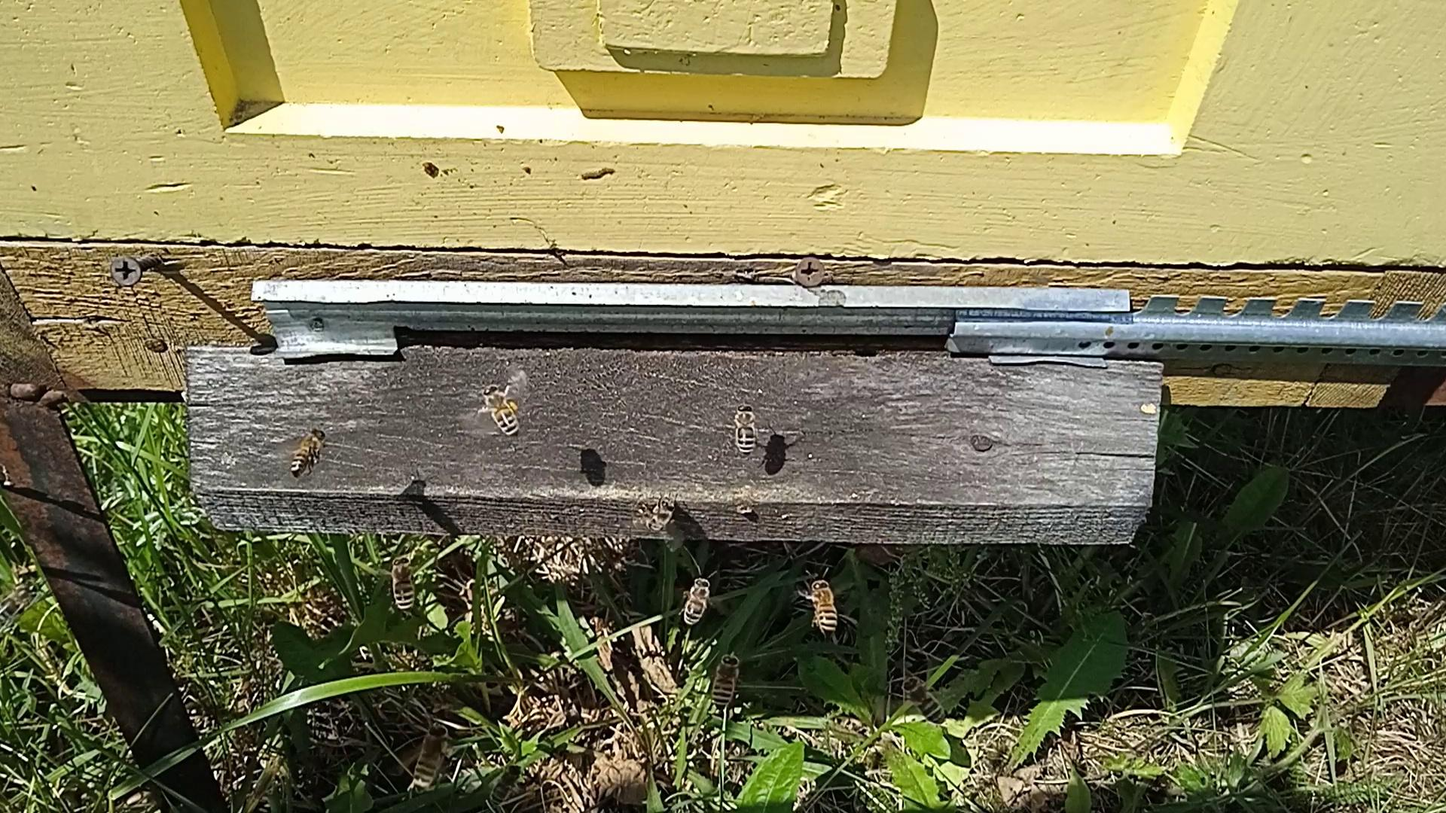worker-bee: (410, 723, 451, 794), (903, 673, 946, 725), (481, 383, 521, 437), (806, 576, 839, 635), (288, 427, 327, 476), (1, 580, 38, 627), (681, 574, 714, 626), (712, 653, 743, 708), (633, 497, 678, 533), (389, 555, 416, 613), (731, 403, 758, 457)
